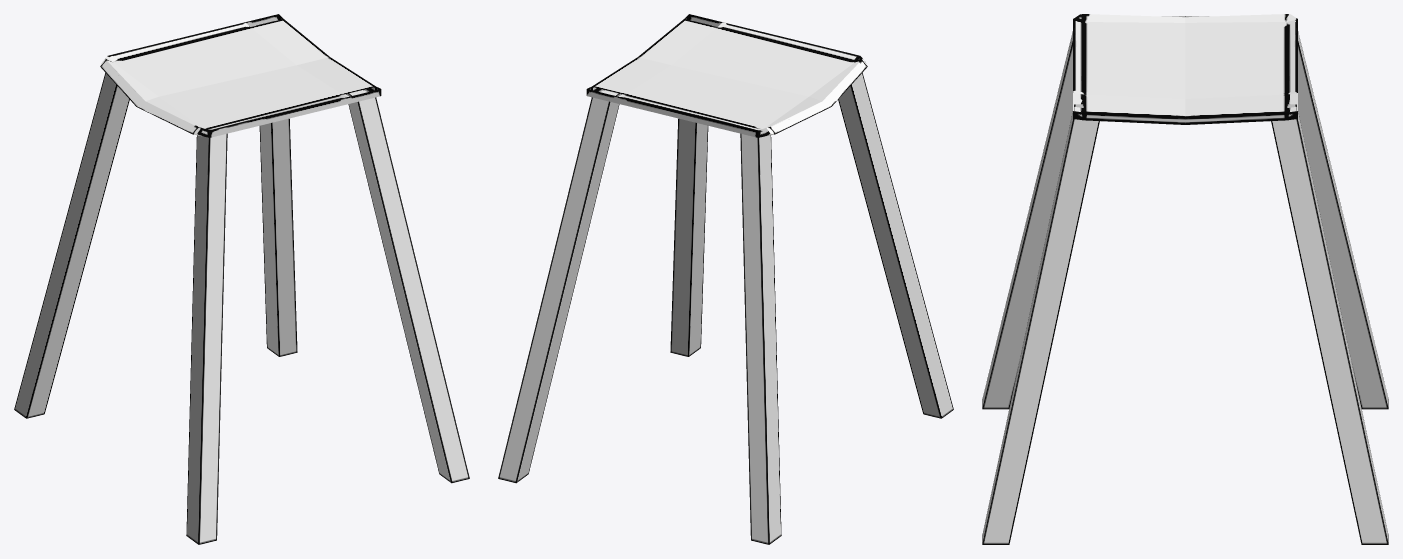
Rendered from ChairNoback.fbx.
3 views of the same model, side by side, from view 1: azimuth 30°, elevation 25°; view 2: azimuth 150°, elevation 25°; view 3: azimuth 270°, elevation 25° (orthographic). The views are drawn at different scales.
Visible parts, largest first — view 1: Chair.002; view 2: Chair.002; view 3: Chair.002.
Boxes of the visible parts, x1=… form: Chair.002: x1=14, y1=14, x2=469, y2=544; Chair.002: x1=498, y1=14, x2=953, y2=544; Chair.002: x1=982, y1=14, x2=1388, y2=544.
Size of the model in its own units: 68.46 by 90.02 by 80.77.
1 material, 1 textured.
